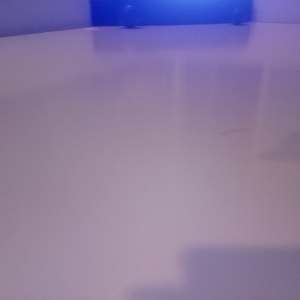dead_ball: (119, 4, 139, 27), (230, 7, 247, 25)
